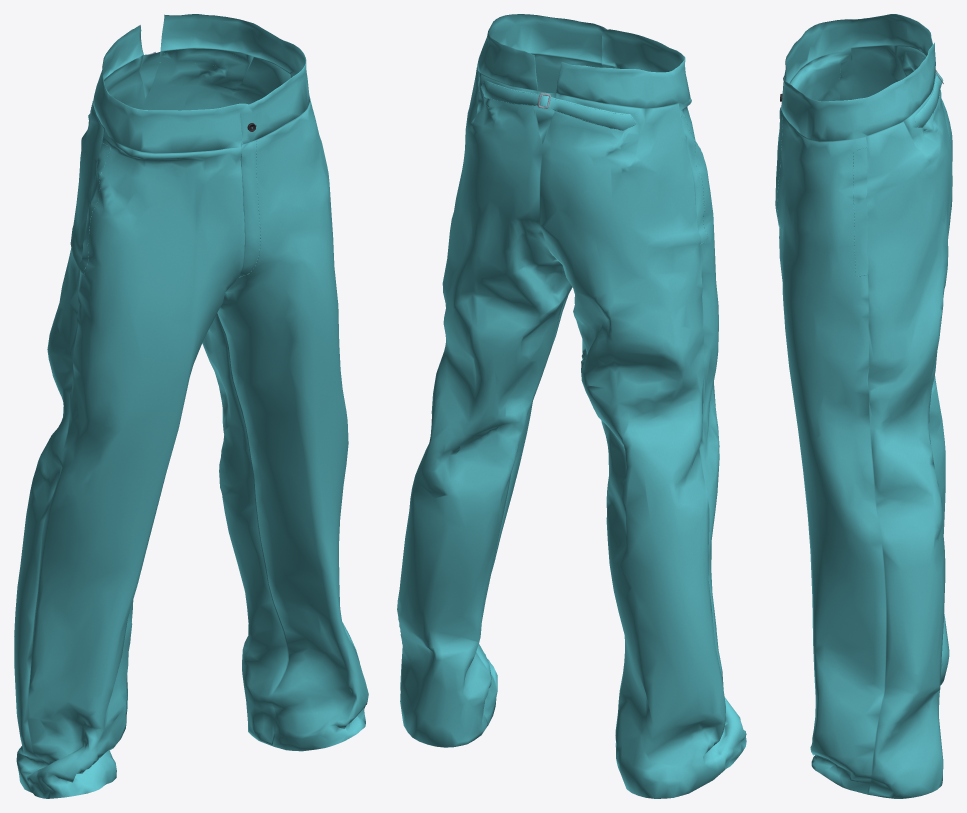
Rendered from med_pants_only.fbx.
3 views of the same model, side by side, from view 1: azimuth 30°, elevation 25°; view 2: azimuth 150°, elevation 25°; view 3: azimuth 270°, elevation 25° (orthographic). The views are drawn at different scales.
Parts seen in each view (by area): view 1: med_pants_only; view 2: med_pants_only; view 3: med_pants_only.
Part boxes in pixels (x1,y1,x2,y2): med_pants_only: [14, 14, 368, 798]; med_pants_only: [397, 14, 746, 798]; med_pants_only: [775, 14, 952, 798].
Bounding box in the file's own units: 0.3704 × 0.7712 × 0.1793.
